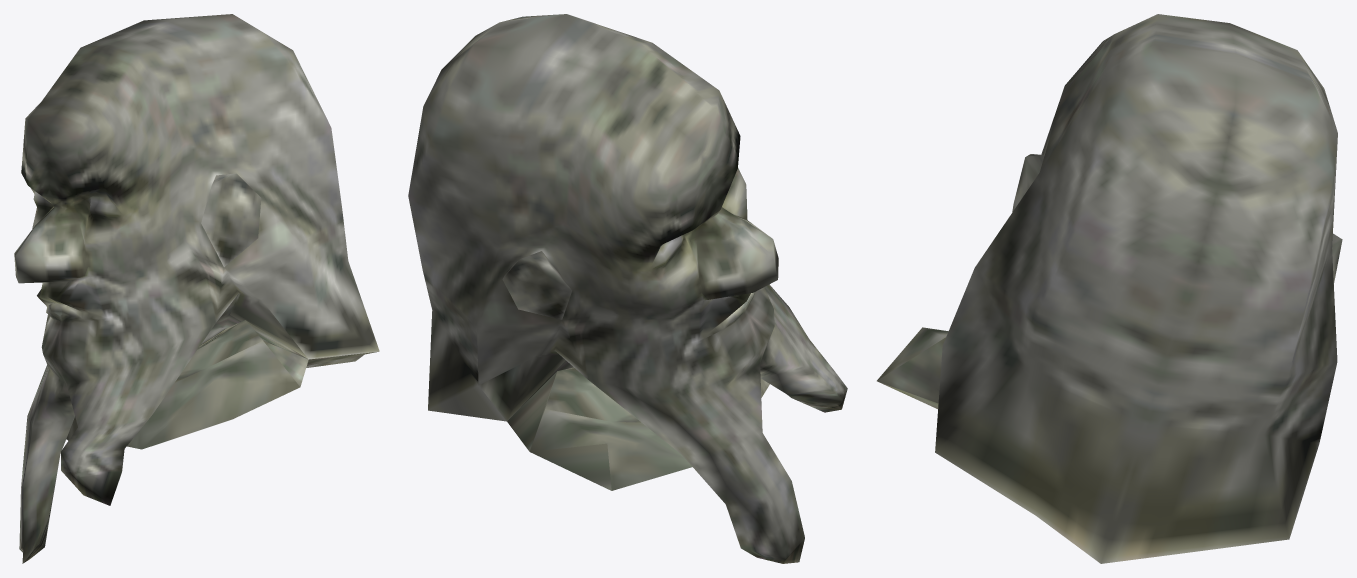
The model's file is INST_SM_SCULPTUREHEAD.fbx.
The picture shows the model from 3 angles, left to right: view 1: azimuth 30°, elevation 25°; view 2: azimuth 150°, elevation 25°; view 3: azimuth 270°, elevation 25°; orthographic projection. The views are drawn at different scales.
Parts seen in each view (by area): view 1: INST_SM_SCULPTUREHEAD; view 2: INST_SM_SCULPTUREHEAD; view 3: INST_SM_SCULPTUREHEAD.
Part boxes in pixels (<box>): INST_SM_SCULPTUREHEAD: <box>14,14,379,563</box>; INST_SM_SCULPTUREHEAD: <box>408,14,847,563</box>; INST_SM_SCULPTUREHEAD: <box>877,14,1342,563</box>.
Size of the model in its own units: 21298 by 29304 by 20462.
1 material, 1 textured.
